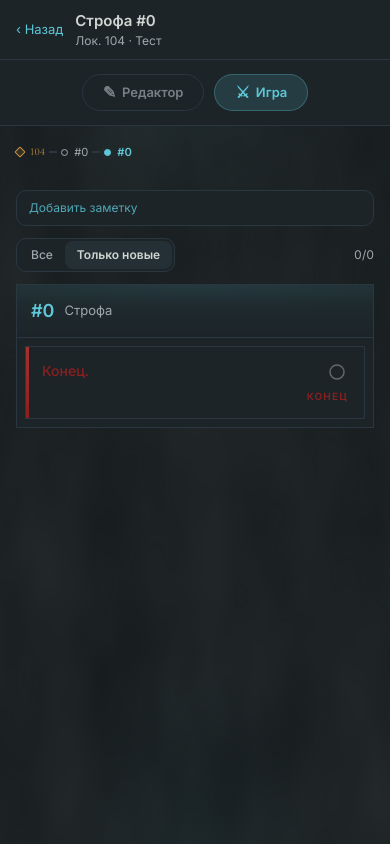
Test case: LocationPage: research end await-ack modal › E2 ack-error — модалка в error-state, navigate НЕ вызван, path цел
Click the text "Конец.".
click(66, 370)  # box [42,362,89,379]
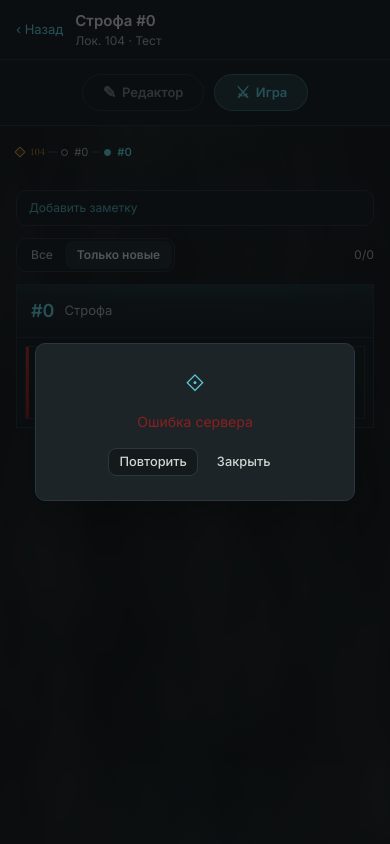
Check: the text "Ошибка сервера" is shown, box [137,412,253,432]
Check: the button "Повторить" is shown, box [108,448,198,476]
Check: the button "Закрыть" is shown, box [206,448,282,476]
